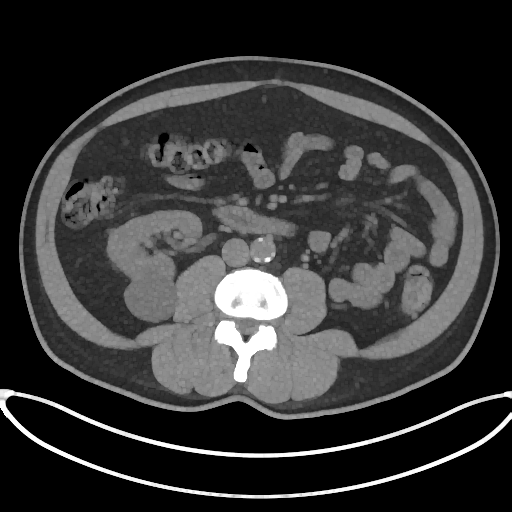Lesion: (123, 273, 181, 323)
